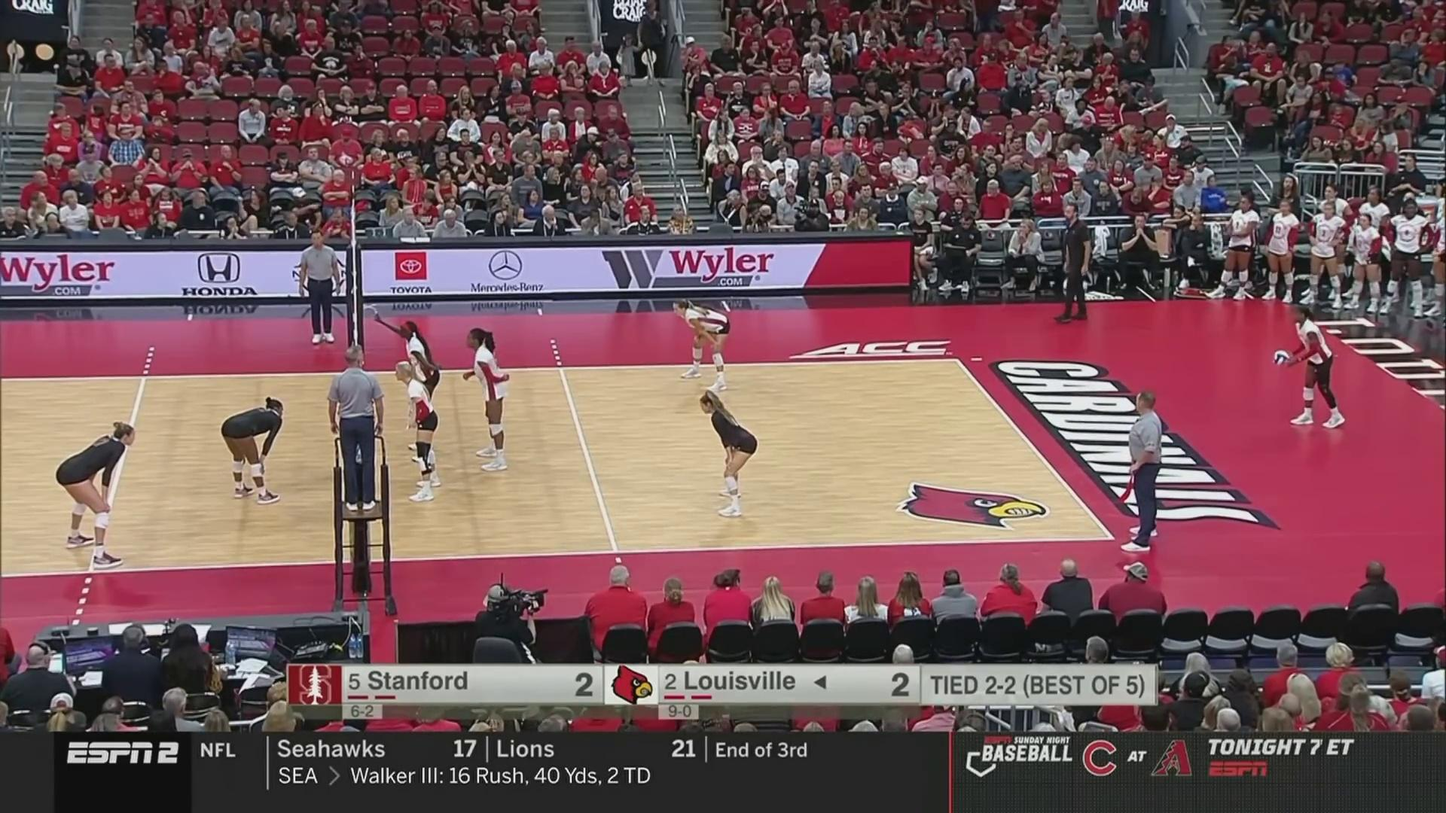player: (56, 425, 135, 567), (1272, 304, 1344, 426), (462, 327, 514, 475), (389, 316, 441, 464), (700, 393, 761, 519), (221, 398, 285, 502), (394, 360, 441, 500), (673, 297, 734, 390)
refree: (327, 344, 383, 512), (1124, 391, 1165, 555), (298, 231, 341, 343)
